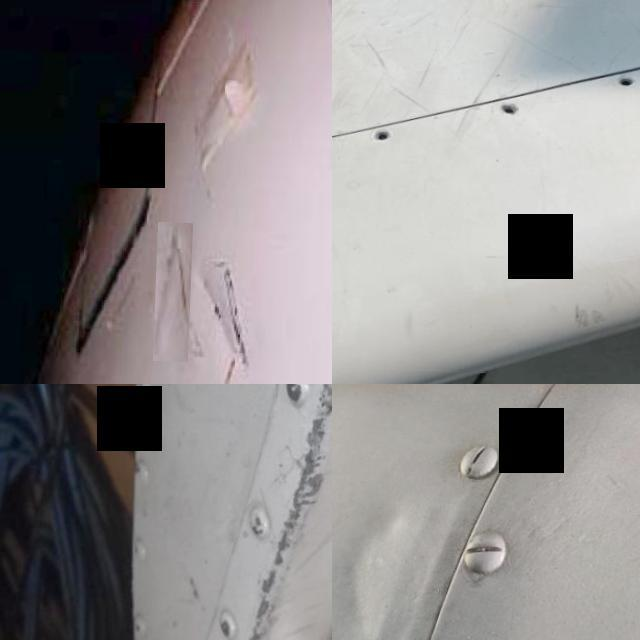Crack: (175, 384, 332, 640)
Dent: (332, 486, 449, 640), (156, 220, 194, 358), (203, 265, 244, 351)
Missing_Fastener: (366, 122, 400, 142), (616, 70, 640, 85), (496, 100, 520, 112)
